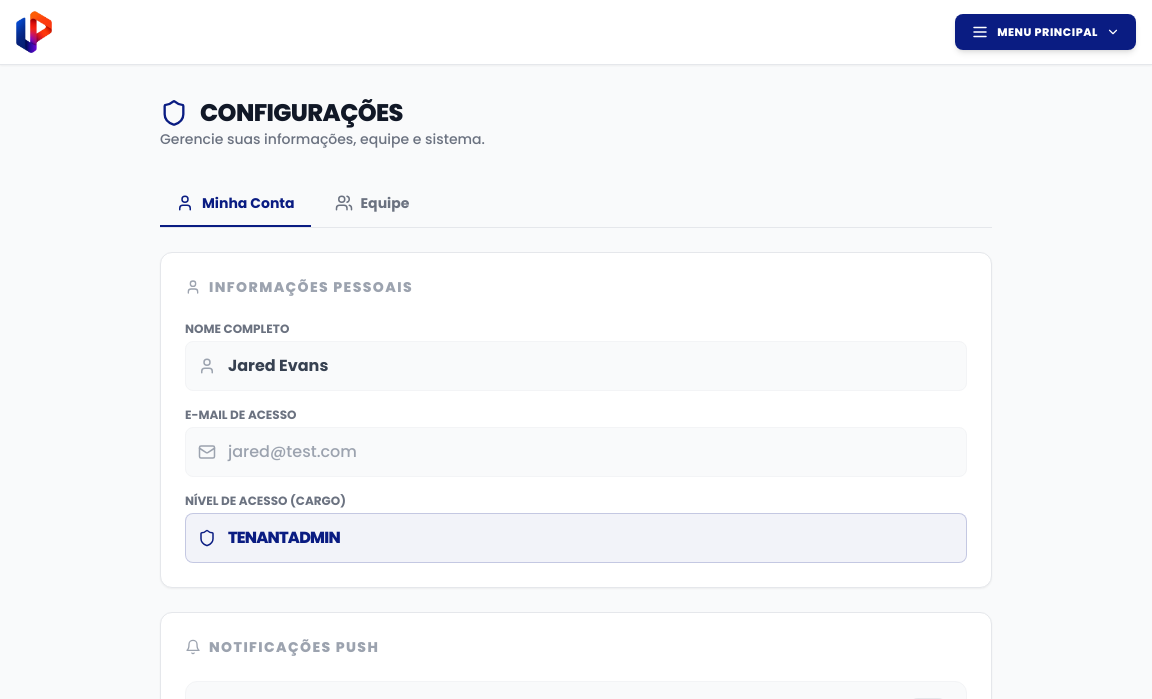
Test: SettingsPage › SettingsPage - Tabs & Team Management (QA RED) › T07 - deve habilitar os botões de ação para um TenantAdmin quando NÃO é o único TenantAdmin do tenant
The width and height of the screenshot is (1152, 699).
Click the tab "Equipe".
click(372, 204)  # box [318,181,425,227]
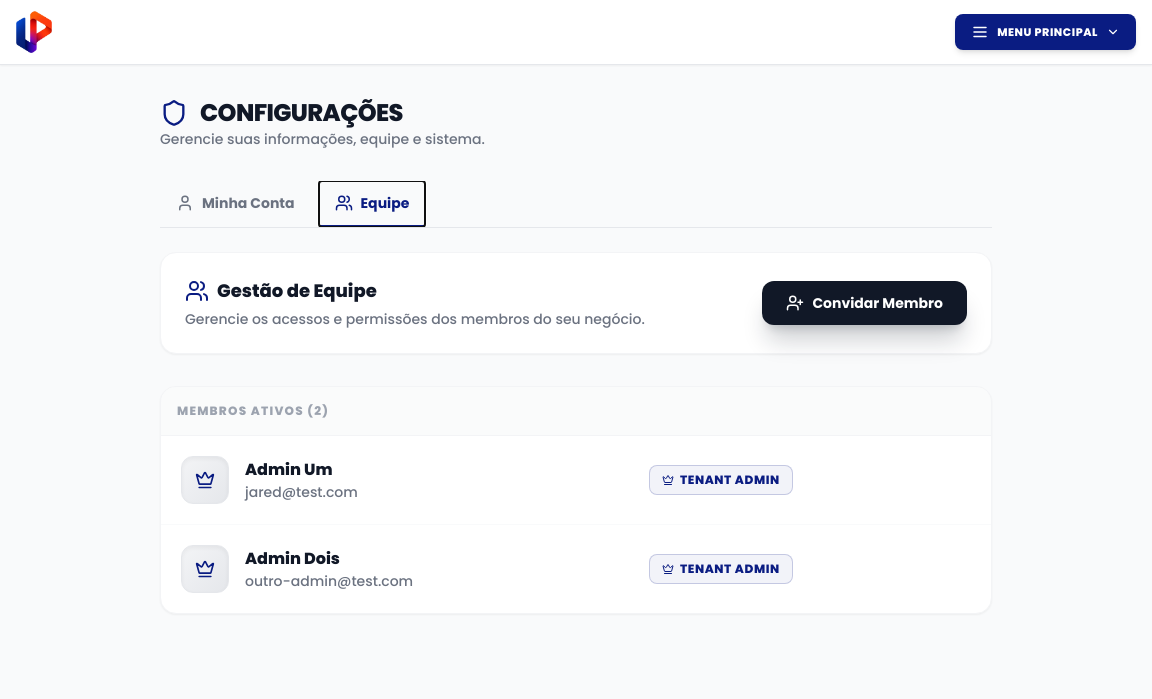
Now the text "Admin Dois" is shown, box [245,547,340,571]
